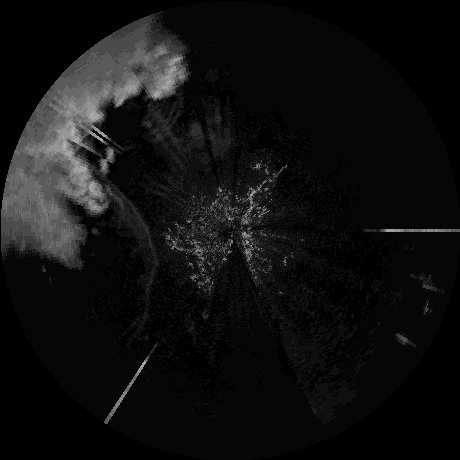frontgust: (131, 206, 160, 334)
